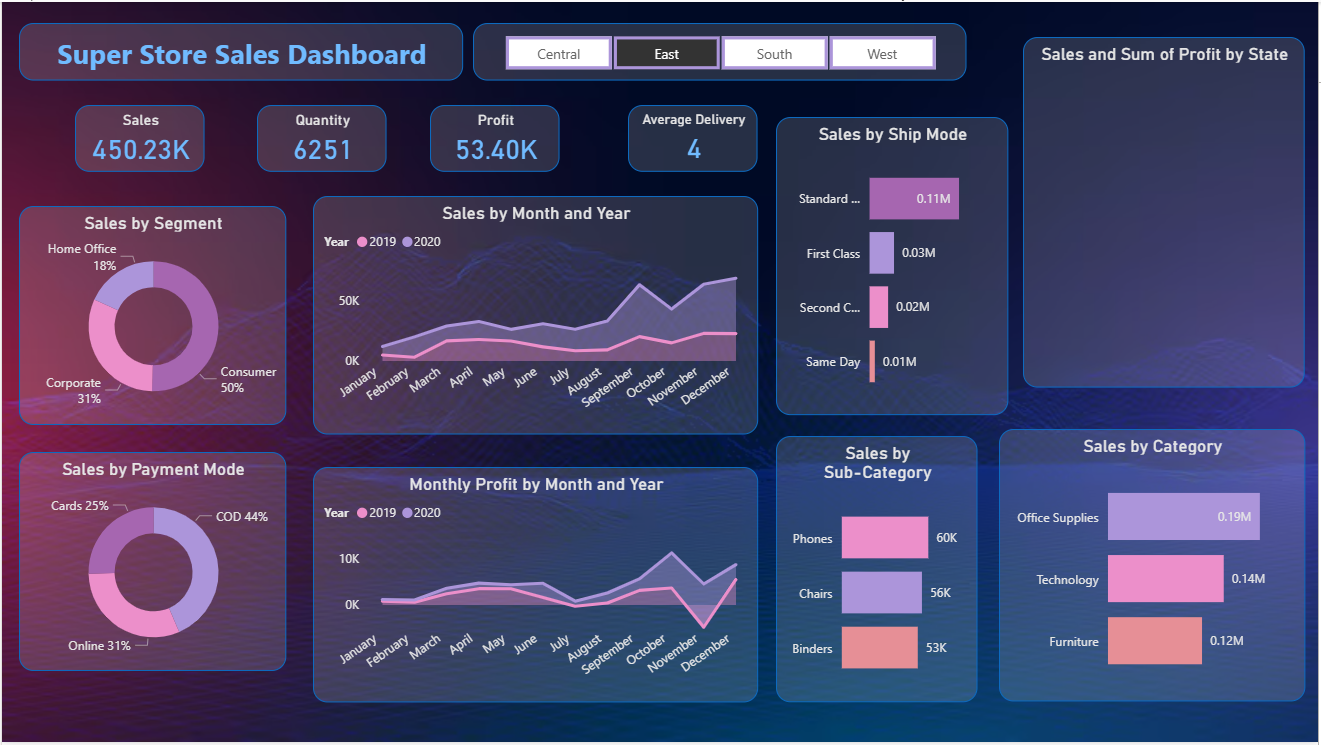

The dashboard page shown, as its layout file describes it:
{"tool":"powerbi","page":{"name":"Dashboard","canvas":[1280,720],"ordinal":0},"visuals":[{"type":"clusteredBarChart","title":"Sales by Category","fields":{"Category":["SuperStore_Sales_Dataset.Category"],"Y":["Sum(SuperStore_Sales_Dataset.Sales)"]},"box":[969.7,415.3,297.6,264.6],"z":0},{"type":"clusteredBarChart","title":" Sales by Sub-Category","fields":{"Category":["SuperStore_Sales_Dataset.Sub-Category"],"Y":["Sum(SuperStore_Sales_Dataset.Sales)"]},"box":[752.8,422.1,196.5,258.7],"z":1000},{"type":"clusteredBarChart","title":" Sales by Ship Mode","fields":{"Category":["SuperStore_Sales_Dataset.Ship Mode"],"Y":["Sum(SuperStore_Sales_Dataset.Sales)"]},"box":[752.8,111.9,225.7,289.8],"z":2000},{"type":"stackedAreaChart","title":" Sales by Month and Year","fields":{"Y":["Sum(SuperStore_Sales_Dataset.Sales)"],"Series":["SuperStore_Sales_Dataset.Order Date.Variation.Date Hierarchy.Year"],"Category":["SuperStore_Sales_Dataset.Order Date.Variation.Date Hierarchy.Month","SuperStore_Sales_Dataset.Order Date.Variation.Date Hierarchy.Day"]},"box":[302.5,188.7,432.8,232.5],"z":3000},{"type":"stackedAreaChart","title":"Monthly Profit by Month and Year","fields":{"Series":["SuperStore_Sales_Dataset.Order Date.Variation.Date Hierarchy.Year"],"Category":["SuperStore_Sales_Dataset.Order Date.Variation.Date Hierarchy.Month","SuperStore_Sales_Dataset.Order Date.Variation.Date Hierarchy.Day"],"Y":["Sum(SuperStore_Sales_Dataset.Profit)"]},"box":[302.5,452.3,432.8,228.6],"z":4000},{"type":"map","title":"Sales and Sum of Profit by State","fields":{"Size":["Sum(SuperStore_Sales_Dataset.Sales)"],"Category":["SuperStore_Sales_Dataset.State"]},"box":[993.1,34,274.3,341.4],"z":5000},{"type":"donutChart","title":"Sales by Segment","fields":{"Category":["SuperStore_Sales_Dataset.Segment"],"Y":["Sum(SuperStore_Sales_Dataset.Sales)"]},"box":[16.5,198.4,259.7,213],"z":6000},{"type":"donutChart","title":"Sales by Payment Mode","fields":{"Category":["SuperStore_Sales_Dataset.Payment Mode"],"Y":["Sum(SuperStore_Sales_Dataset.Sales)"]},"box":[16.5,437.7,259.7,213],"z":7000},{"type":"slicer","fields":{"Values":["SuperStore_Sales_Dataset.Region"]},"box":[458.1,20.4,479.5,56.4],"z":8000},{"type":"textbox","box":[16.5,20.4,431.9,56.4],"z":9000},{"type":"card","title":"Sales","fields":{"Values":["Sum(SuperStore_Sales_Dataset.Sales)"]},"box":[71,100.2,126.4,65.2],"z":10000},{"type":"card","title":"Quantity","fields":{"Values":["Sum(SuperStore_Sales_Dataset.Quantity)"]},"box":[248,100.2,126.4,65.2],"z":11000},{"type":"card","title":"Profit","fields":{"Values":["Sum(SuperStore_Sales_Dataset.Profit)"]},"box":[416.3,100.2,126.4,65.2],"z":12000},{"type":"card","title":"Average Delivery","fields":{"Values":["Avg(SuperStore_Sales_Dataset.AvgDelivery)"]},"box":[608.9,100.2,126.4,65.2],"z":13000}]}

Visuals, with their boxes in screenshot pixels (x1, y1, x2, y2), scaled from the page's 1280x720 canvas onto the 1321x745 screenshot:
"Sales by Category" clusteredBarChart: bbox=(1001, 430, 1308, 704)
" Sales by Sub-Category" clusteredBarChart: bbox=(777, 437, 980, 704)
" Sales by Ship Mode" clusteredBarChart: bbox=(777, 116, 1010, 416)
" Sales by Month and Year" stackedAreaChart: bbox=(312, 195, 759, 436)
"Monthly Profit by Month and Year" stackedAreaChart: bbox=(312, 468, 759, 705)
"Sales and Sum of Profit by State" map: bbox=(1025, 35, 1308, 388)
"Sales by Segment" donutChart: bbox=(17, 205, 285, 426)
"Sales by Payment Mode" donutChart: bbox=(17, 453, 285, 673)
slicer - SuperStore_Sales_Dataset.Region: bbox=(473, 21, 968, 79)
textbox: bbox=(17, 21, 463, 79)
"Sales" card: bbox=(73, 104, 204, 171)
"Quantity" card: bbox=(256, 104, 386, 171)
"Profit" card: bbox=(430, 104, 560, 171)
"Average Delivery" card: bbox=(628, 104, 759, 171)
